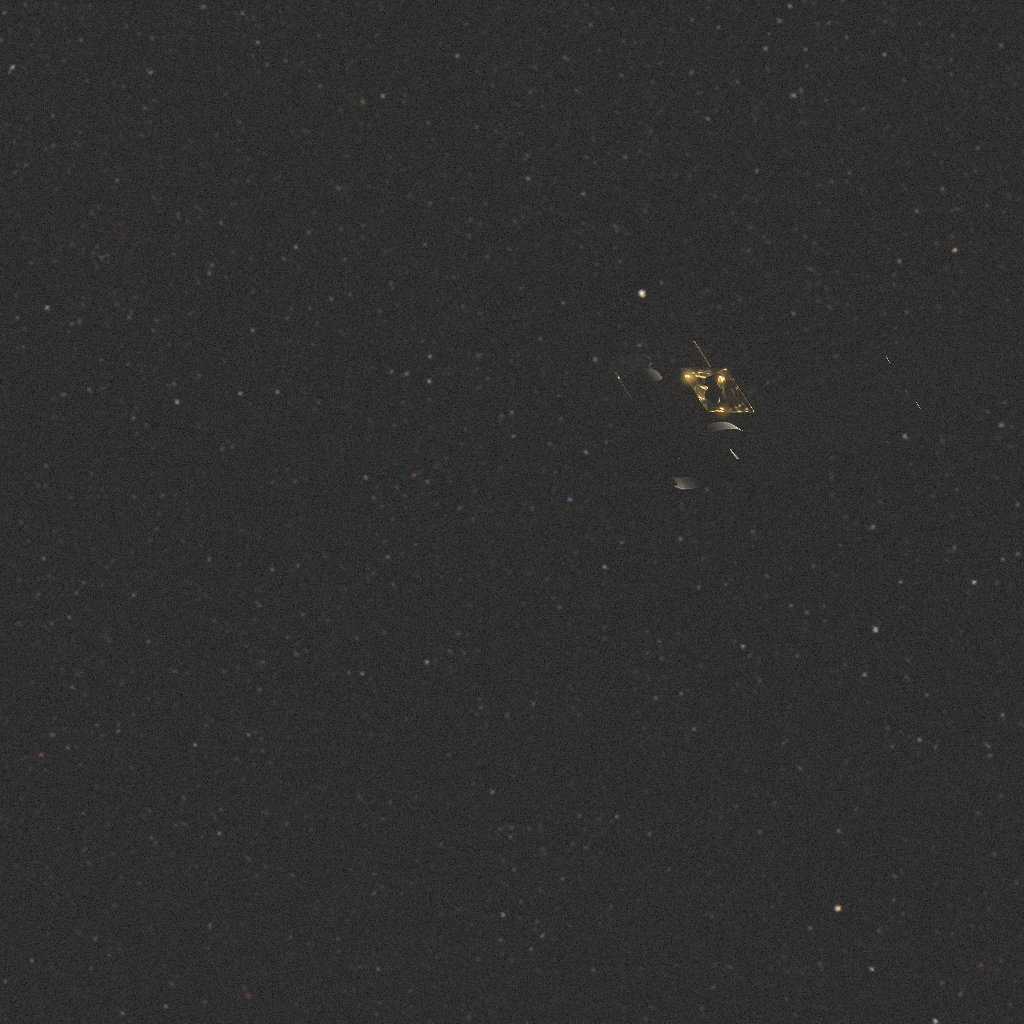earth_observation_sat_1: (606, 319, 1007, 492)
